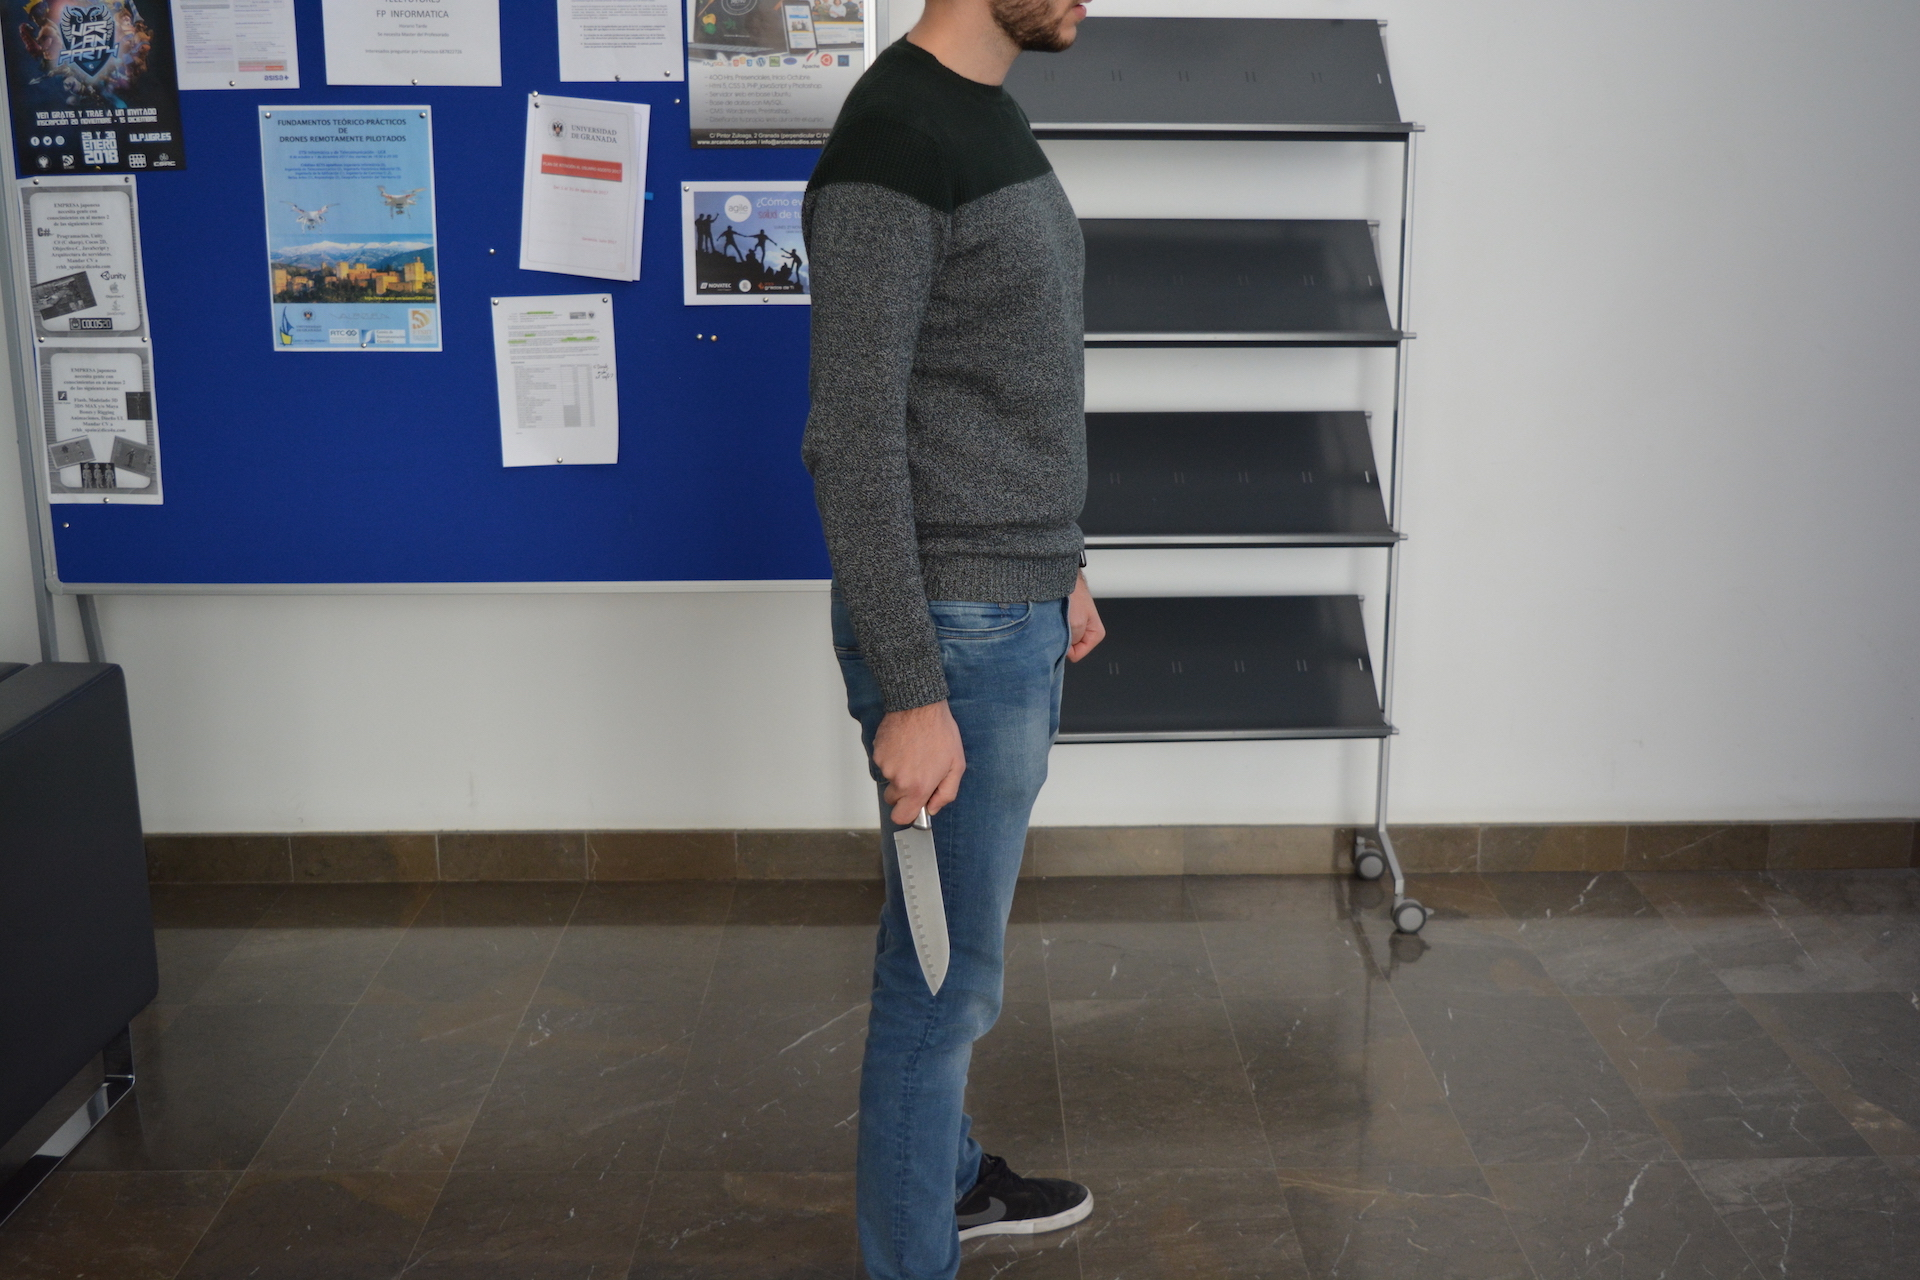knife: (881, 789, 959, 1009)
